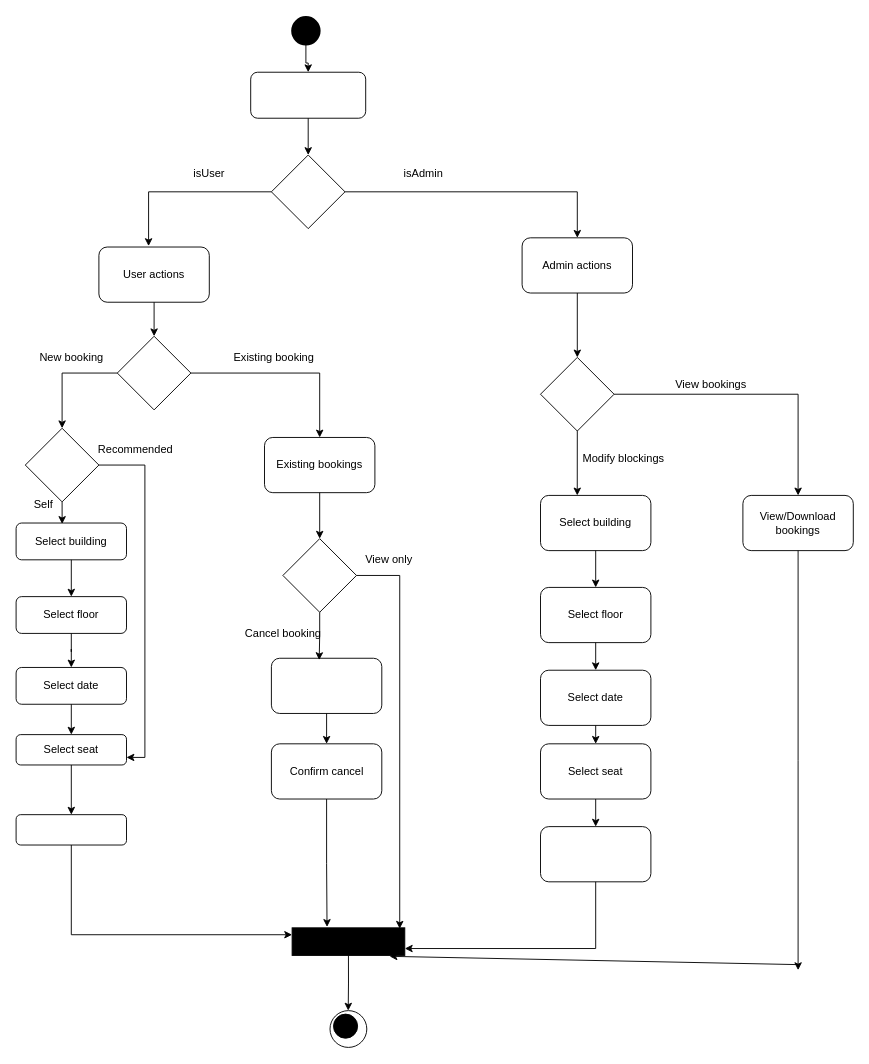
The diagram is 869 pixels wide and 1064 high, and some of its shapes have lost their labels. Each missing label, with the centre of its shape:
"Confirm block/unblock" goes at point 595,854.
"Confirm booking" goes at point 70,829.
"Select booking" goes at point 326,685.
"Sign in" goes at point 308,94.
